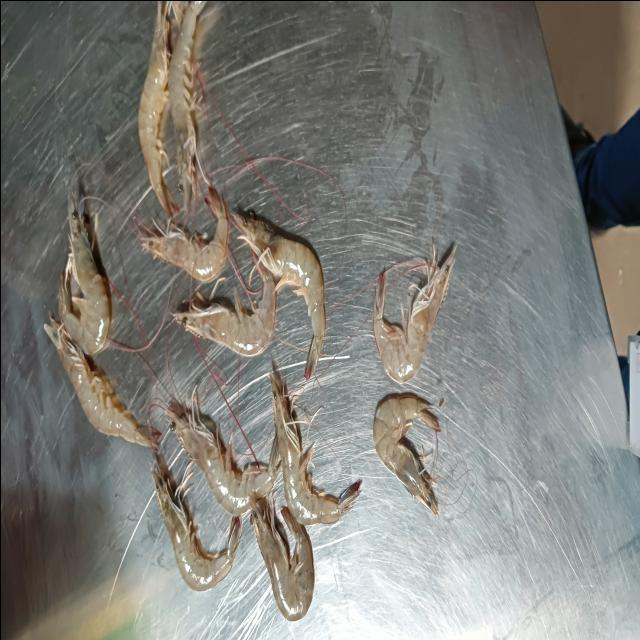shrimp: (230, 213, 325, 379), (44, 317, 160, 447), (165, 390, 280, 514), (269, 370, 360, 525), (150, 454, 241, 591), (372, 244, 455, 383), (172, 268, 276, 357), (138, 0, 178, 217), (141, 186, 228, 281), (249, 494, 314, 620), (372, 394, 439, 516), (168, 0, 205, 211), (58, 208, 111, 354)
